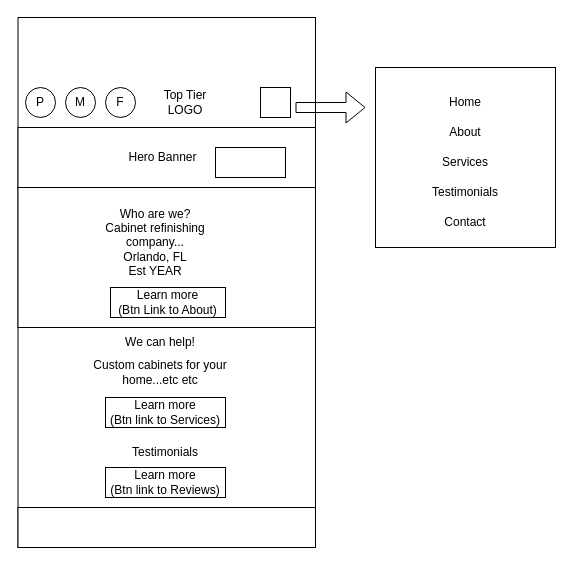
Image size: 573x565. Some labels were removed from this diagram. Each missing label, with the centre of its shape:
"email phone address" goes at point (166, 527).
"Menu" goes at point (275, 102).
"See Gallery Btn" goes at point (250, 162).
